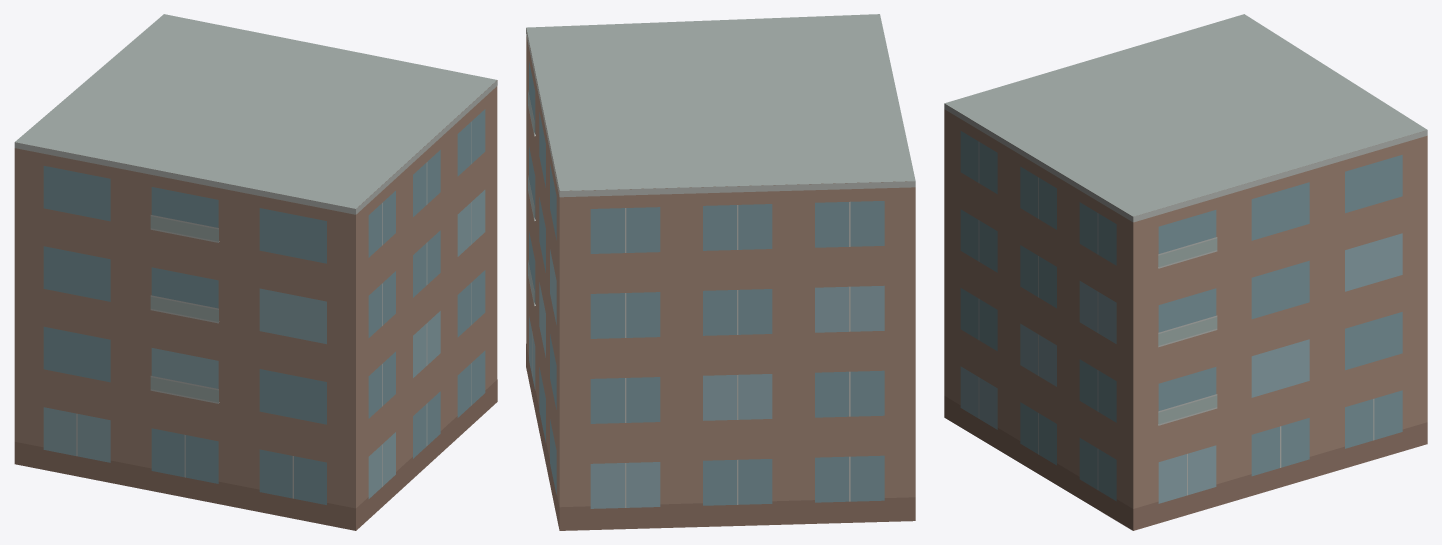
File: survey-upis-32983072.glb
The picture shows the model from 3 angles, left to right: view 1: azimuth 30°, elevation 25°; view 2: azimuth 150°, elevation 25°; view 3: azimuth 270°, elevation 25°; orthographic projection. The views are drawn at different scales.
Visible parts, largest first — view 1: survey-upis-32983072.tmp; view 2: survey-upis-32983072.tmp; view 3: survey-upis-32983072.tmp.
Part boxes in pixels (box(x1,y1,x2,y2)): survey-upis-32983072.tmp: box(14, 14, 497, 530); survey-upis-32983072.tmp: box(526, 14, 915, 530); survey-upis-32983072.tmp: box(944, 14, 1427, 530).
Size of the model in its own units: 18.49 by 13.35 by 18.63.
